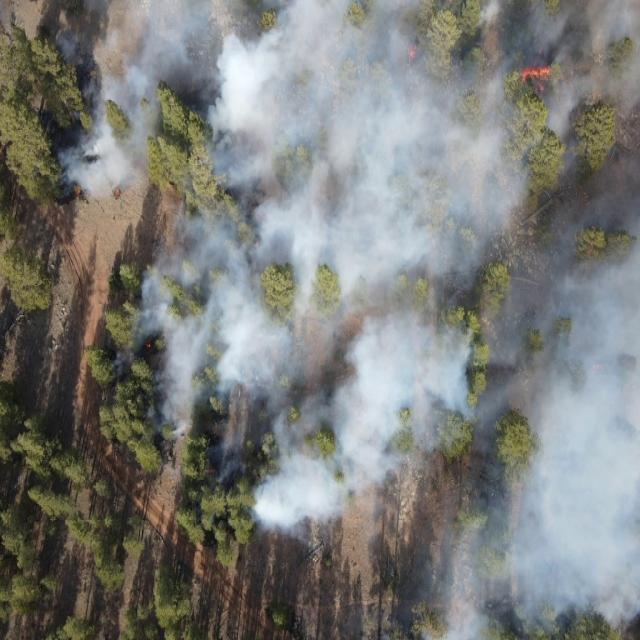fire: (520, 66, 555, 95), (531, 46, 547, 66), (407, 40, 420, 61), (74, 186, 86, 200), (586, 245, 598, 259), (202, 466, 216, 476), (112, 187, 124, 198), (145, 338, 153, 352)
smoke: (51, 1, 640, 203), (416, 204, 640, 640), (176, 205, 414, 539), (138, 249, 176, 436), (106, 334, 138, 376)
